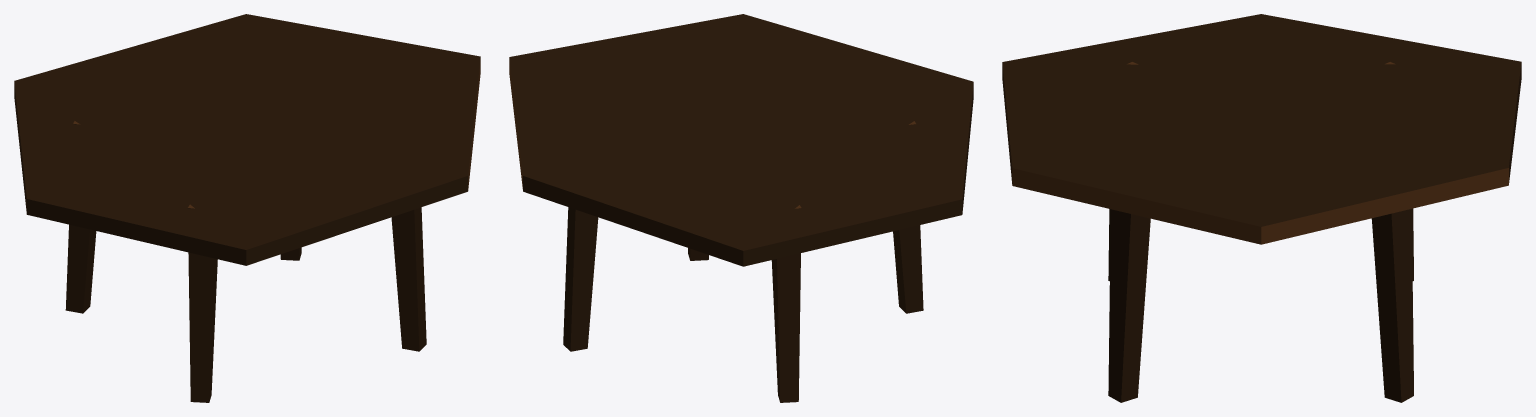
The model's file is table_druidique.glb.
3 renders of one model, left to right at view 1: azimuth 30°, elevation 25°; view 2: azimuth 150°, elevation 25°; view 3: azimuth 270°, elevation 25°, orthographic. The views are drawn at different scales.
Parts seen in each view (by area): view 1: Table_Druidique; view 2: Table_Druidique; view 3: Table_Druidique.
Part boxes in pixels (<box>): Table_Druidique: <box>14,14,480,402</box>; Table_Druidique: <box>509,14,973,402</box>; Table_Druidique: <box>1002,14,1521,402</box>.
Size of the model in its own units: 4.44 by 2 by 3.92.
